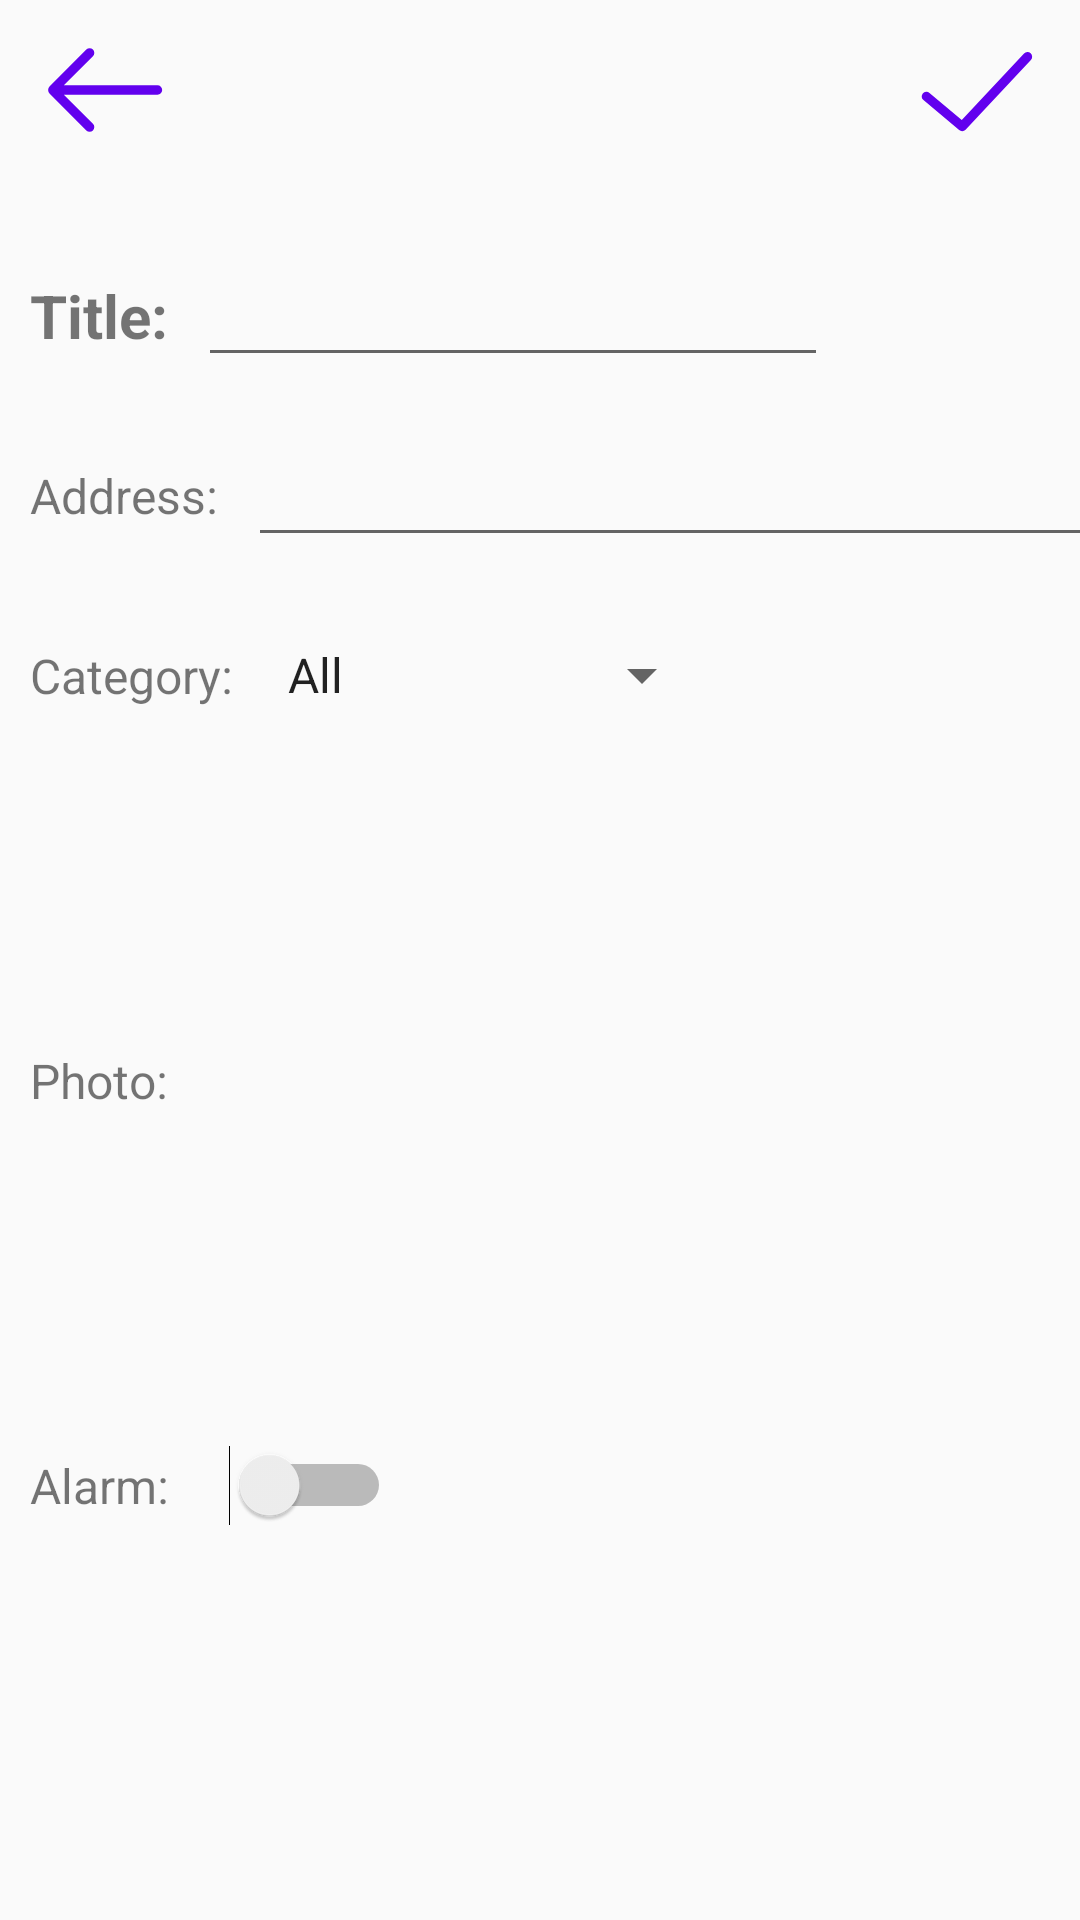

Icon click points for this 1080px×1920px phone screenshot, format (x=x, y=y):
back: (x=105, y=90)
submit: (x=976, y=92)
